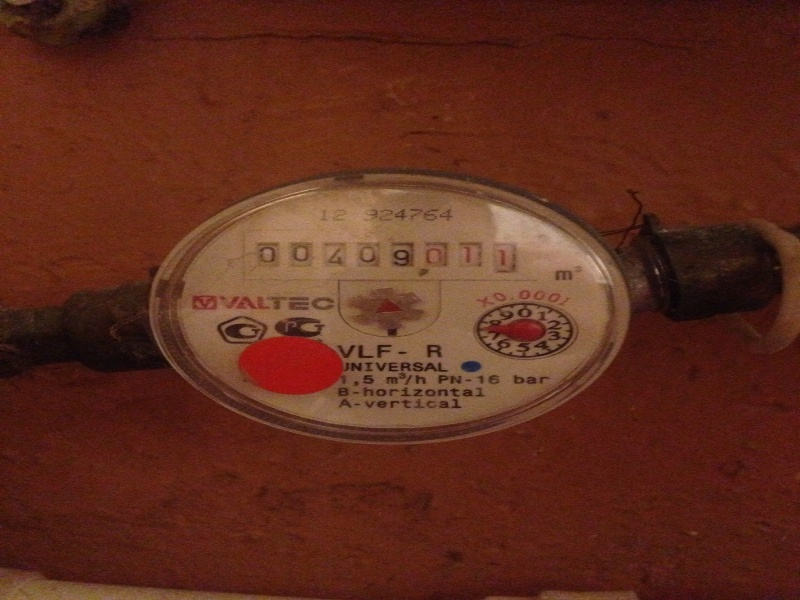meter: (249, 232, 534, 277)
